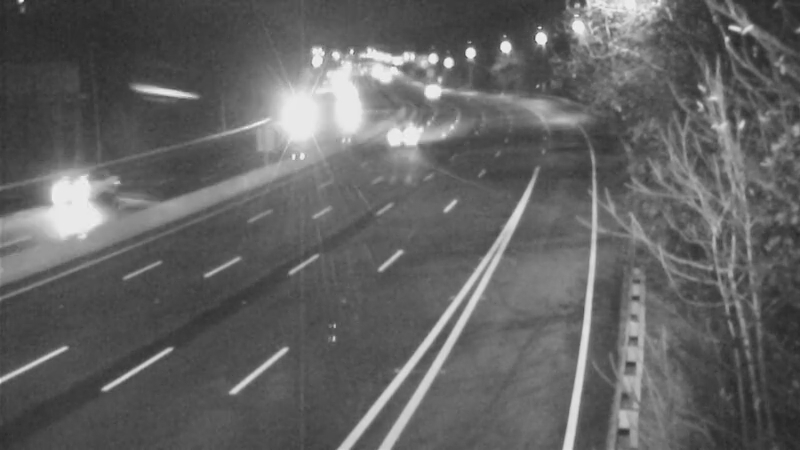vehicle: (31, 147, 111, 227), (409, 69, 459, 119), (382, 112, 432, 162), (274, 89, 324, 139), (319, 86, 369, 136)
